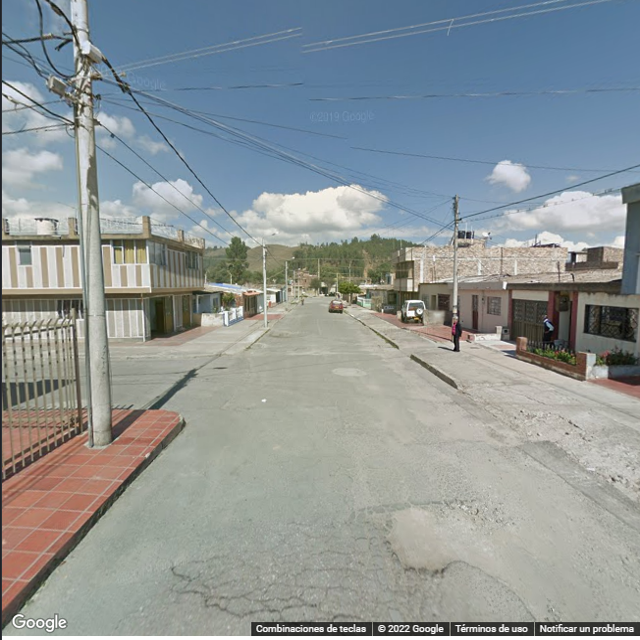D20: (169, 534, 387, 626)
D40: (383, 496, 483, 567)
